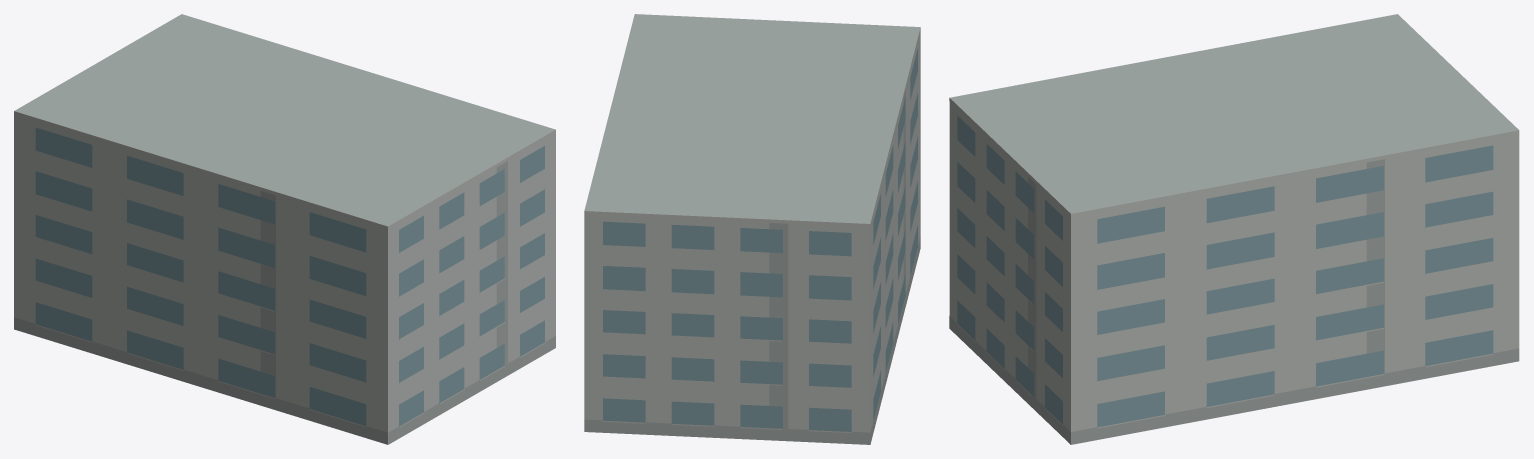
File: residential-b5a25fe1-d176-44d2-a965-7ff12c143b7a.glb
The picture shows the model from 3 angles, left to right: view 1: azimuth 30°, elevation 25°; view 2: azimuth 150°, elevation 25°; view 3: azimuth 270°, elevation 25°; orthographic projection. The views are drawn at different scales.
Visible parts, largest first — view 1: residential-b5a25fe1-d176-44d2-a965-7ff12c143b7a.tmp; view 2: residential-b5a25fe1-d176-44d2-a965-7ff12c143b7a.tmp; view 3: residential-b5a25fe1-d176-44d2-a965-7ff12c143b7a.tmp.
Boxes of the visible parts, left/top/right/bottom form: residential-b5a25fe1-d176-44d2-a965-7ff12c143b7a.tmp: left=14, top=14, right=555, bottom=444; residential-b5a25fe1-d176-44d2-a965-7ff12c143b7a.tmp: left=584, top=14, right=920, bottom=444; residential-b5a25fe1-d176-44d2-a965-7ff12c143b7a.tmp: left=949, top=14, right=1519, bottom=444.
Size of the model in its own units: 28.32 by 15.25 by 34.11.
